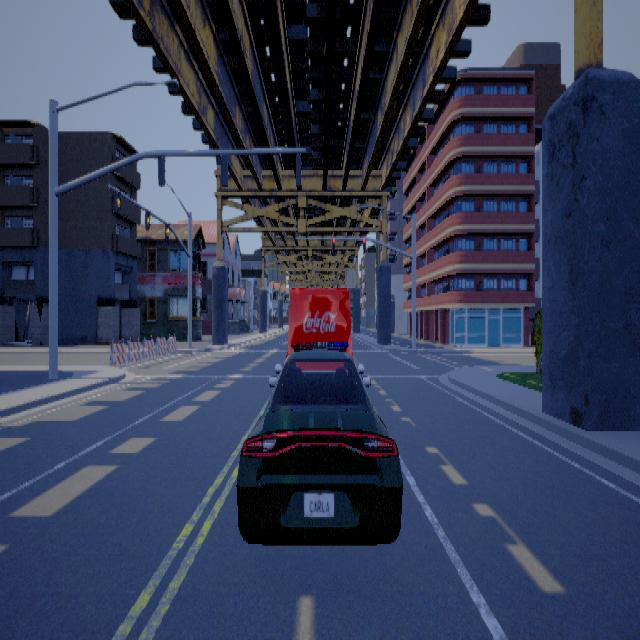red_light: (362, 238, 365, 252), (331, 238, 334, 252)
vehicle: (235, 344, 402, 544), (286, 283, 354, 414)
yellow_light: (113, 189, 120, 212), (144, 207, 150, 229), (164, 221, 169, 239)
